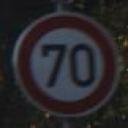speed_limit_70: (11, 11, 117, 117)
